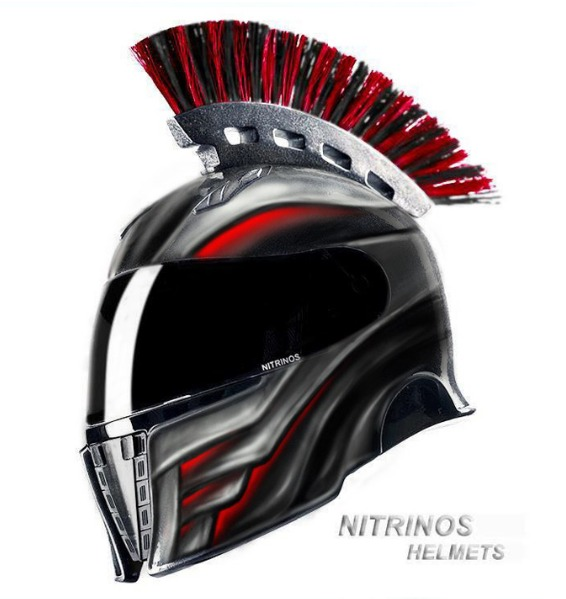with_helmet: (78, 15, 486, 585)
